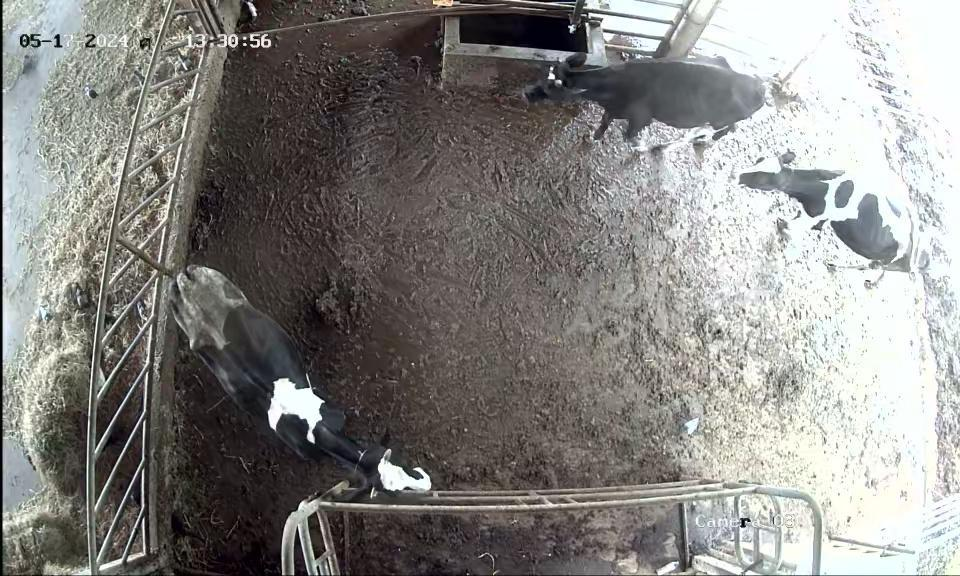stand: (158, 258, 450, 503), (730, 148, 931, 294), (514, 50, 773, 158)
